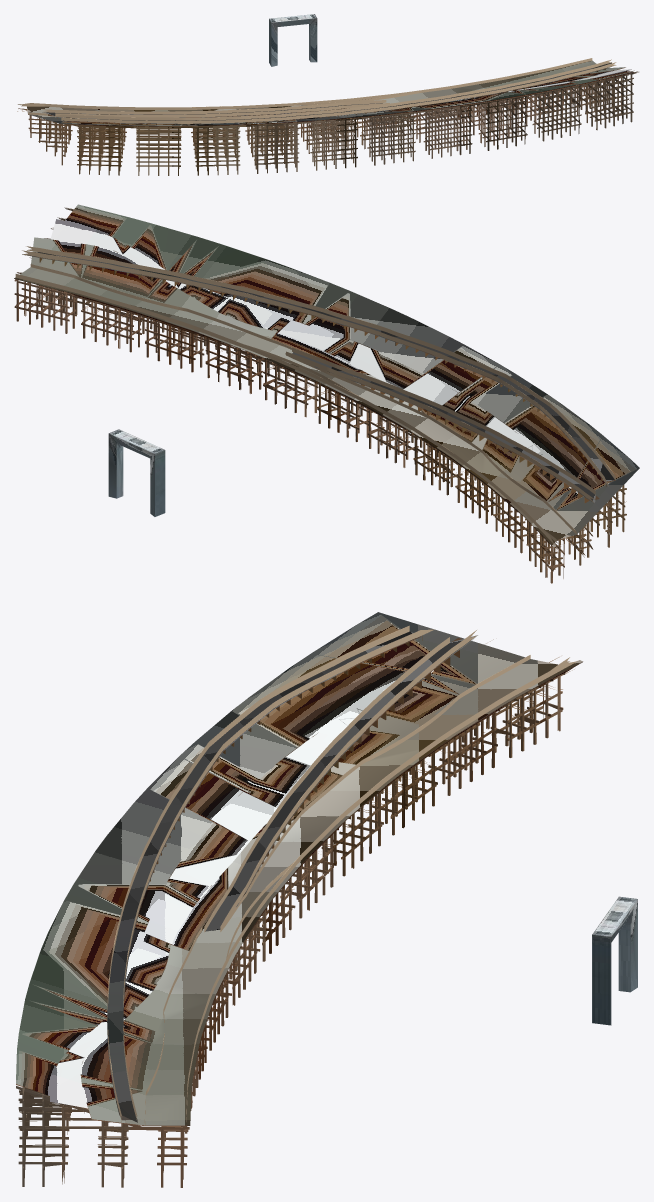
3 views of the same model, one above another, from view 1: azimuth 30°, elevation 25°; view 2: azimuth 150°, elevation 25°; view 3: azimuth 270°, elevation 25° (orthographic). The views are drawn at different scales.
Visible parts, largest first — view 1: GrandRoofRing_大屋根リング, Facilities_都市設備; view 2: GrandRoofRing_大屋根リング, Facilities_都市設備; view 3: GrandRoofRing_大屋根リング, Facilities_都市設備.
Part boxes in pixels (<box>): GrandRoofRing_大屋根リング: <box>17,58,638,175</box>; Facilities_都市設備: <box>269,14,317,66</box>; GrandRoofRing_大屋根リング: <box>14,204,639,583</box>; Facilities_都市設備: <box>108,429,165,516</box>; GrandRoofRing_大屋根リング: <box>16,612,582,1187</box>; Facilities_都市設備: <box>592,896,637,1025</box>.
Bounding box in the file's own units: 210 × 22.18 × 113.
5 materials, 3 textured.
